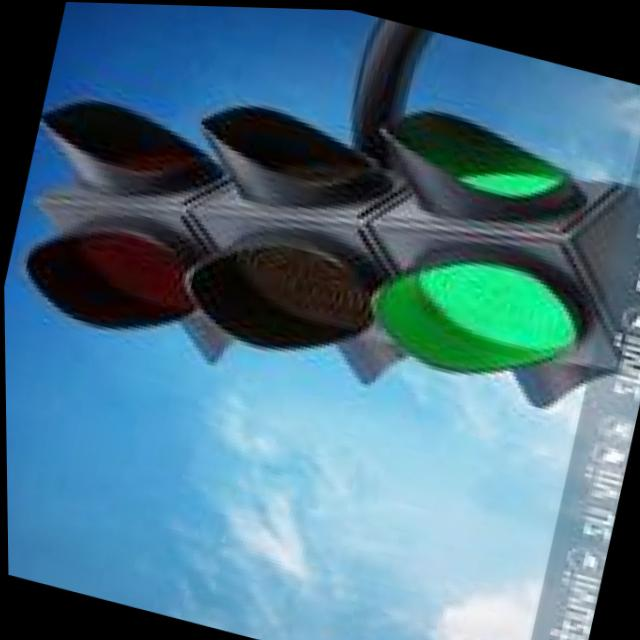green_light: (356, 223, 608, 408), (384, 76, 582, 243)
